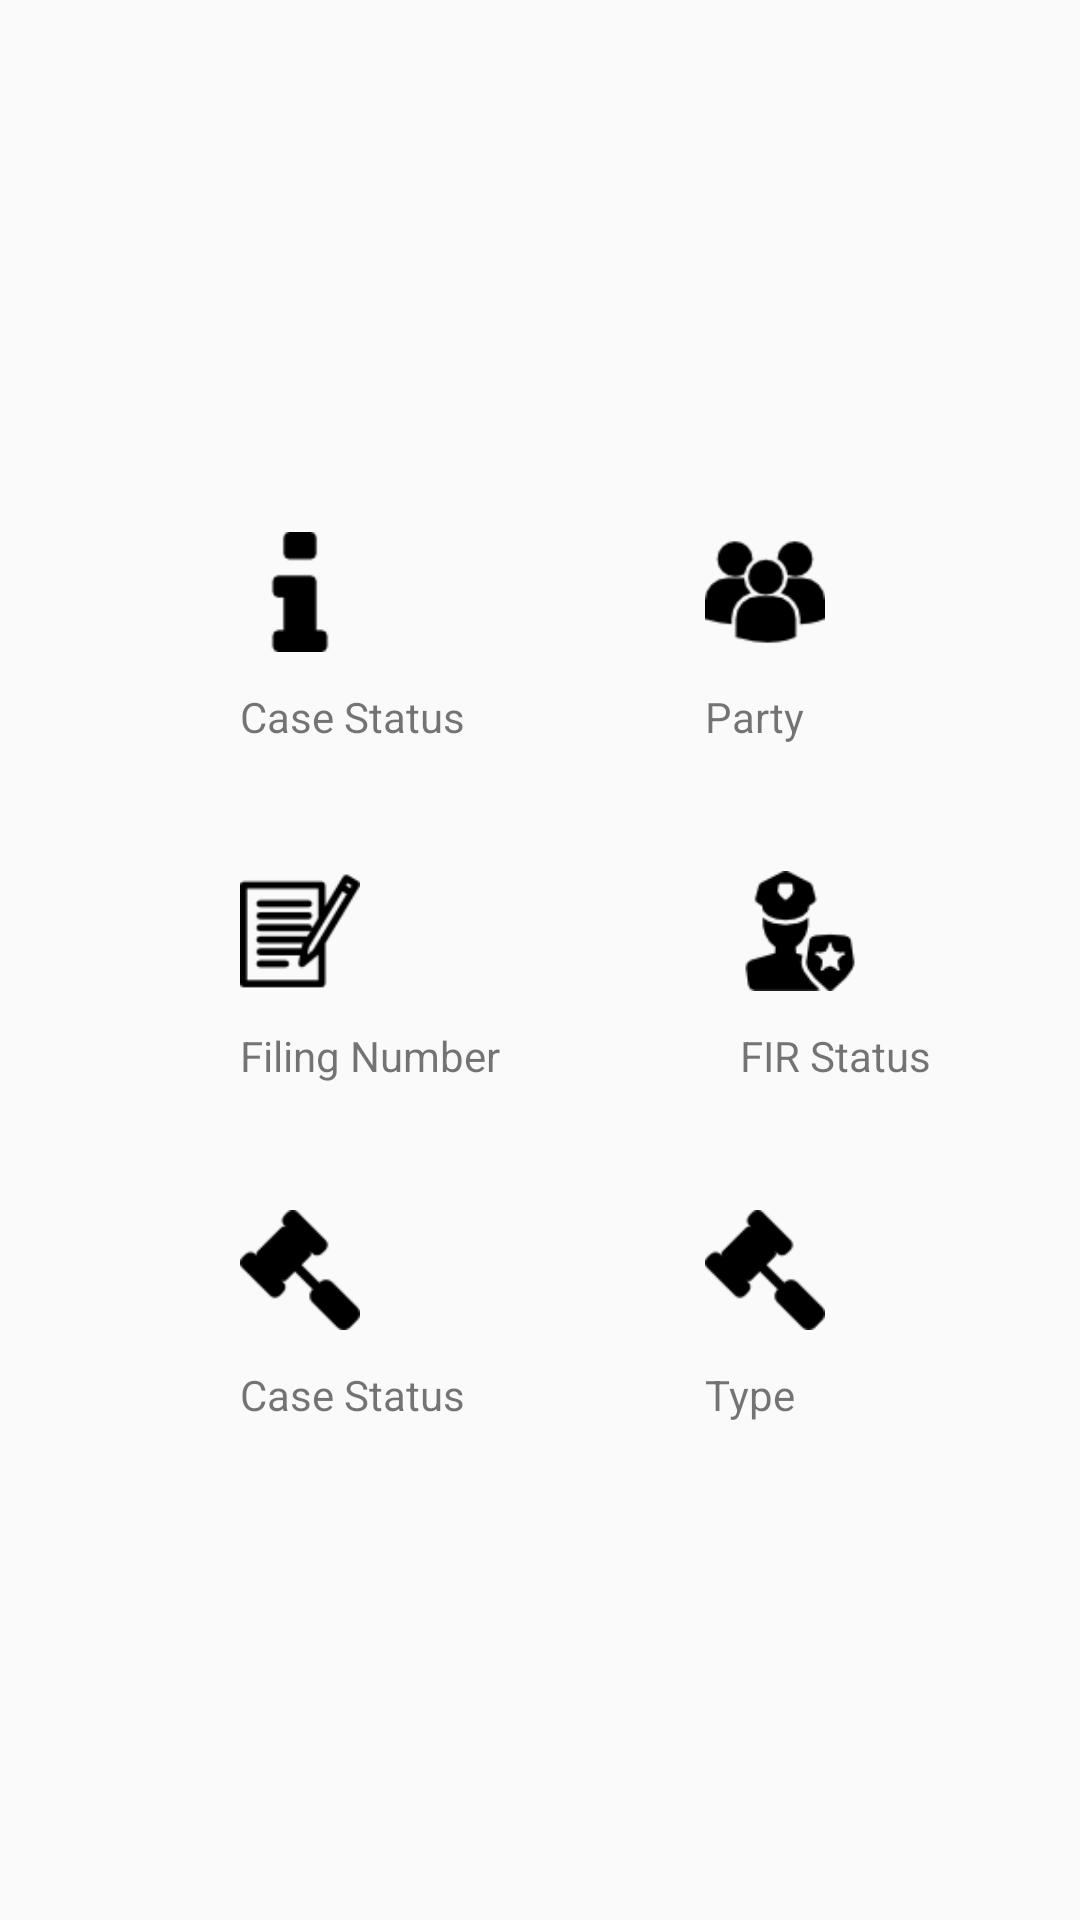

Named icons in this screenshot (1080×1920) and their centers, [x,y]:
hammer: [300,1270], [765,1270]
info: [300,592]
policeman: [800,931]
